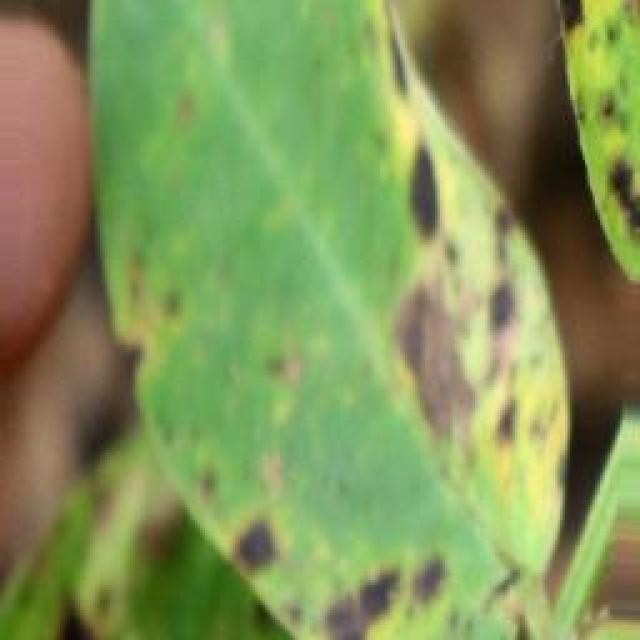Yellowish: (145, 0, 640, 640)
